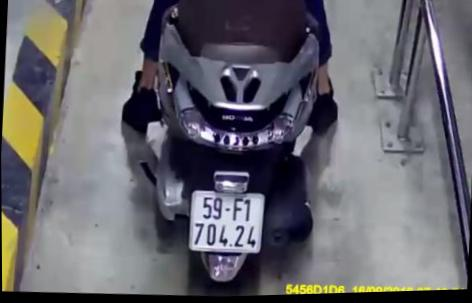LP: (186, 188, 266, 257)
